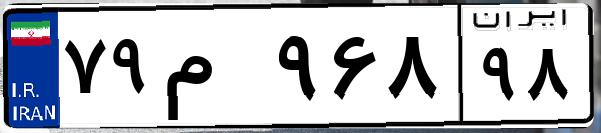6: (330, 28, 385, 110)
7: (57, 26, 110, 100)
8: (385, 28, 445, 110), (525, 38, 570, 115)
9: (270, 28, 330, 110), (475, 38, 525, 113), (110, 28, 158, 98)
م: (158, 20, 270, 120)
